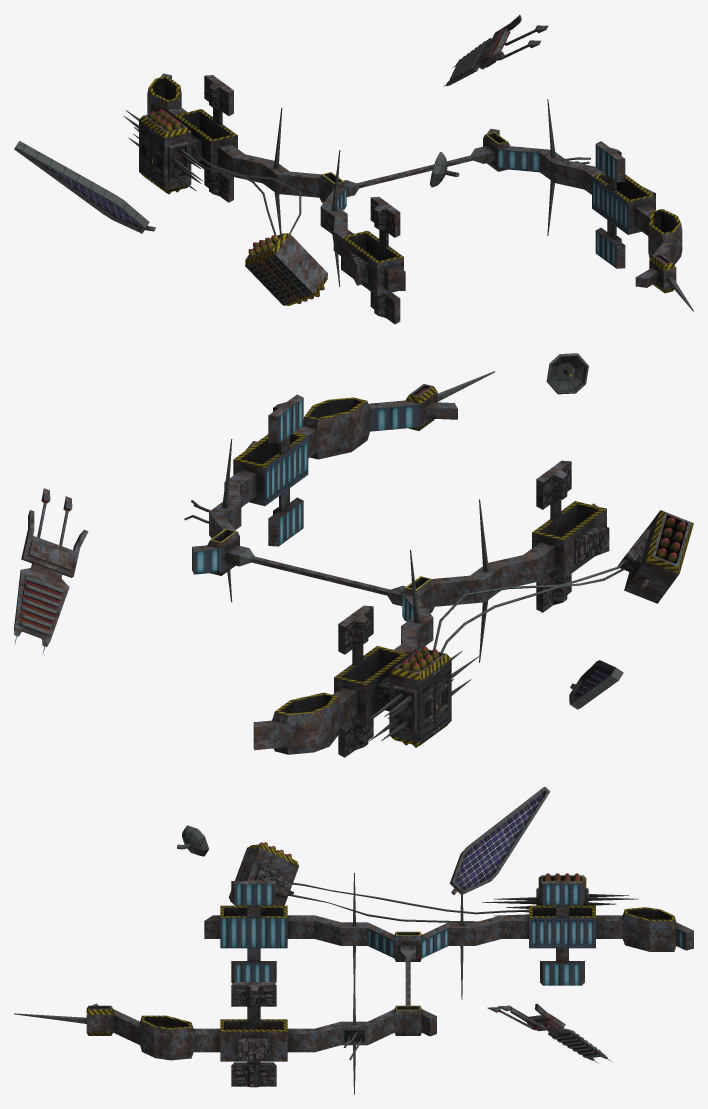
The model's file is JTL-variation4.obj.
3 renders of one model, top to bottom at view 1: azimuth 30°, elevation 25°; view 2: azimuth 150°, elevation 25°; view 3: azimuth 270°, elevation 25°, orthographic. The views are drawn at different scales.
Visible parts, largest first — view 1: Box01; view 2: Box01; view 3: Box01.
Boxes of the visible parts, x1=… form: Box01: x1=14, y1=15, x2=693, y2=324; Box01: x1=14, y1=353, x2=693, y2=757; Box01: x1=14, y1=786, x2=693, y2=1094.
Size of the model in its own units: 204 by 73.78 by 254.
1 material, 1 textured.
